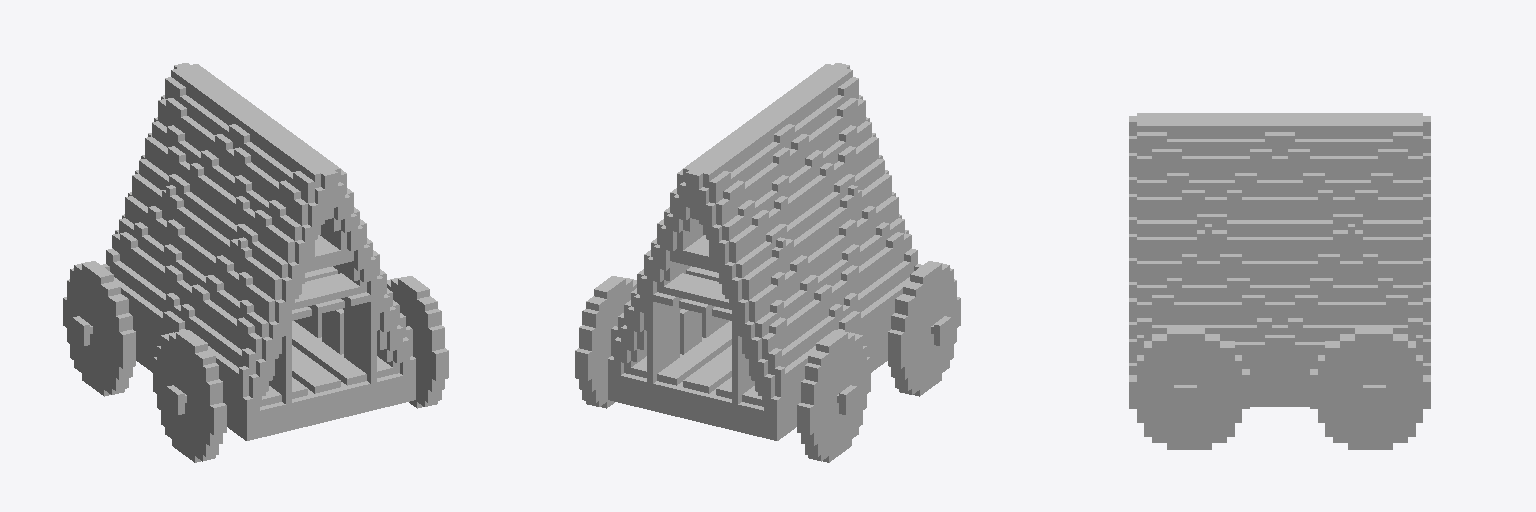
Rendered from Ram.obj.
3 renders of one model, left to right at view 1: azimuth 30°, elevation 25°; view 2: azimuth 150°, elevation 25°; view 3: azimuth 270°, elevation 25°, orthographic.
Visible parts, largest first — view 1: object 1; view 2: object 1; view 3: object 1.
Part boxes in pixels (bbox=[...]): object 1: bbox=[63, 63, 448, 462]; object 1: bbox=[575, 63, 960, 462]; object 1: bbox=[1129, 113, 1430, 449].
Bounding box in the file's own units: 4 × 4 × 4.